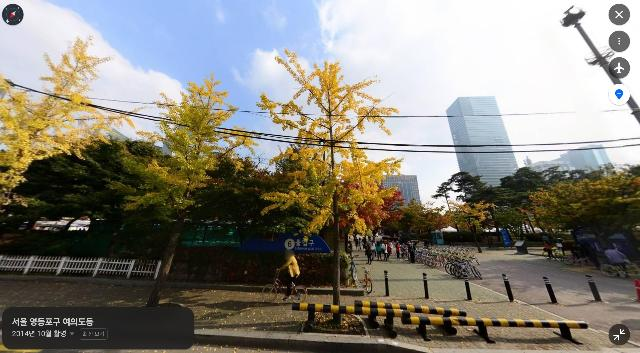ginkgo: (256, 47, 405, 326), (128, 72, 260, 308), (0, 33, 141, 213)
other: (534, 173, 640, 256), (490, 167, 569, 249), (431, 171, 491, 253)
